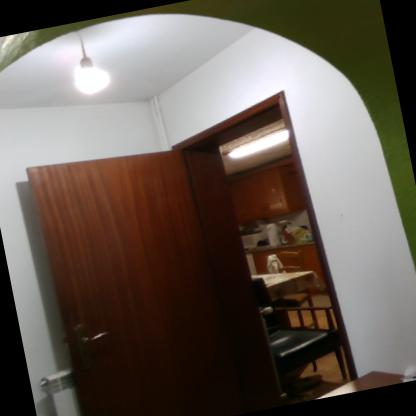open: (3, 72, 387, 415)
